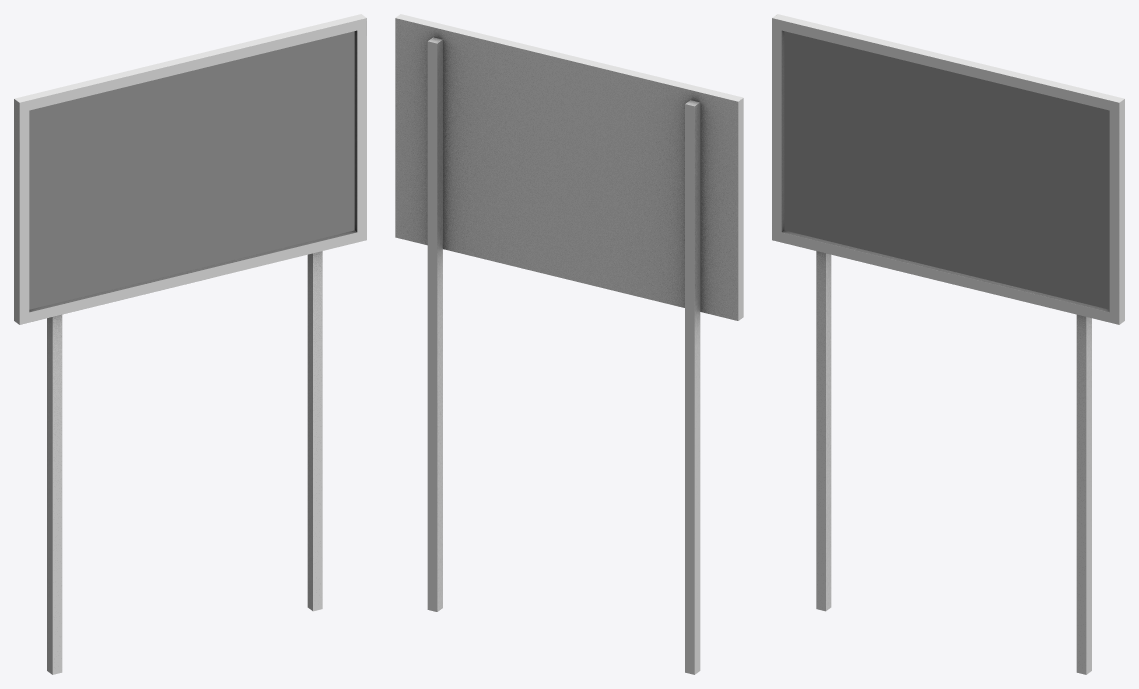
File: Bilboard.obj
3 renders of one model, left to right at view 1: azimuth 30°, elevation 25°; view 2: azimuth 150°, elevation 25°; view 3: azimuth 330°, elevation 25°, orthographic.
Parts seen in each view (by area): view 1: Bilboard; view 2: Bilboard; view 3: Bilboard.
Boxes of the visible parts, box(x1,y1,x2,y2) form: Bilboard: box(14, 14, 366, 674); Bilboard: box(395, 14, 743, 674); Bilboard: box(772, 14, 1124, 674).
Size of the model in its own units: 3.6 by 5.8 by 0.2.
